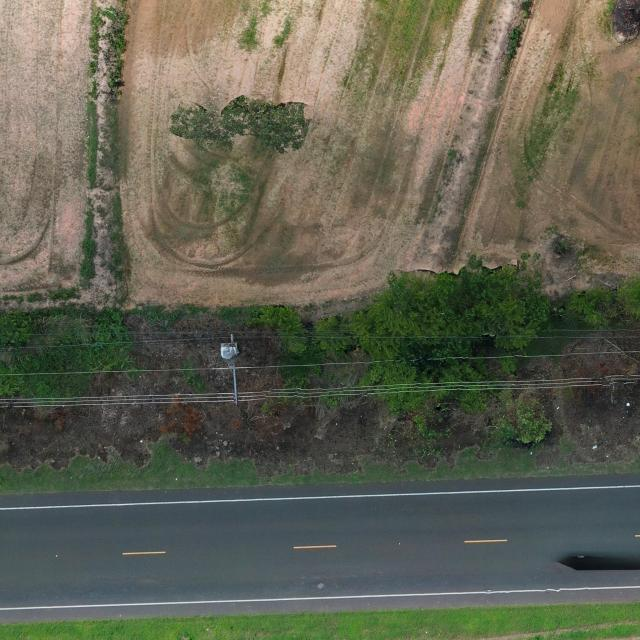tree: (350, 262, 556, 421), (166, 89, 314, 153)
